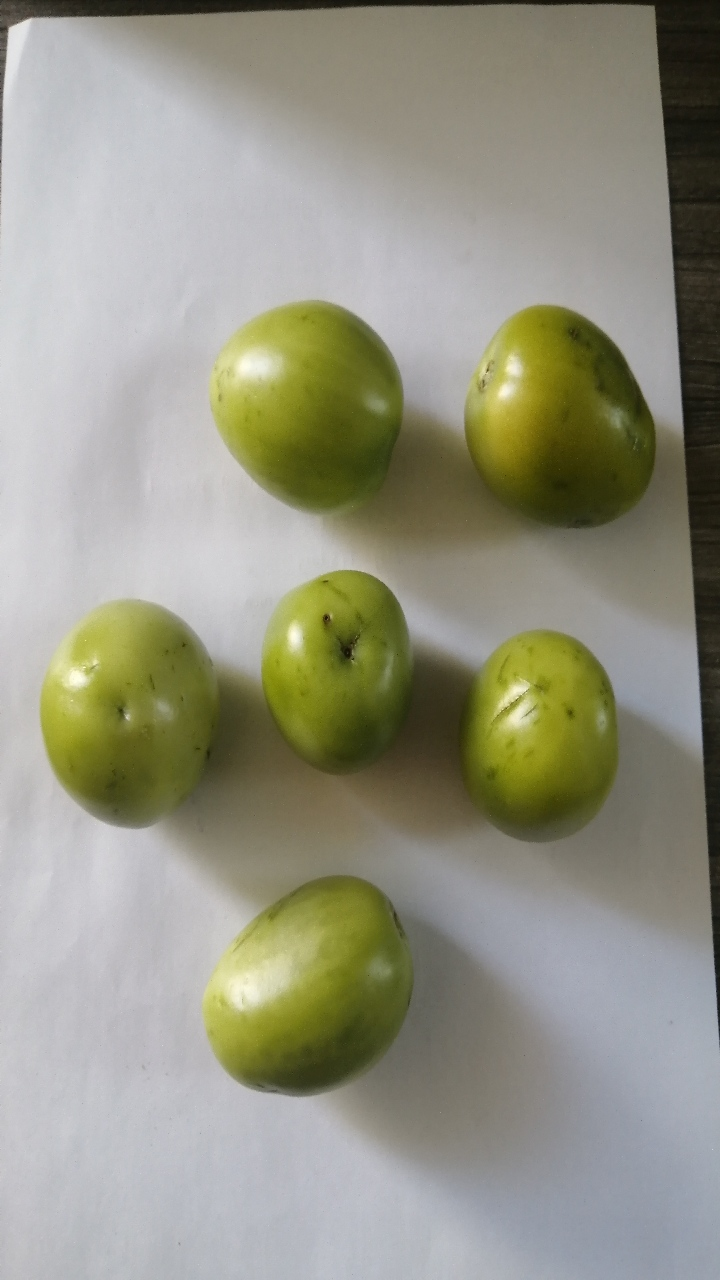tomateVerde: (172, 849, 443, 1112), (180, 274, 421, 539), (441, 272, 671, 545), (31, 586, 234, 845), (431, 606, 643, 845), (255, 545, 437, 785)
